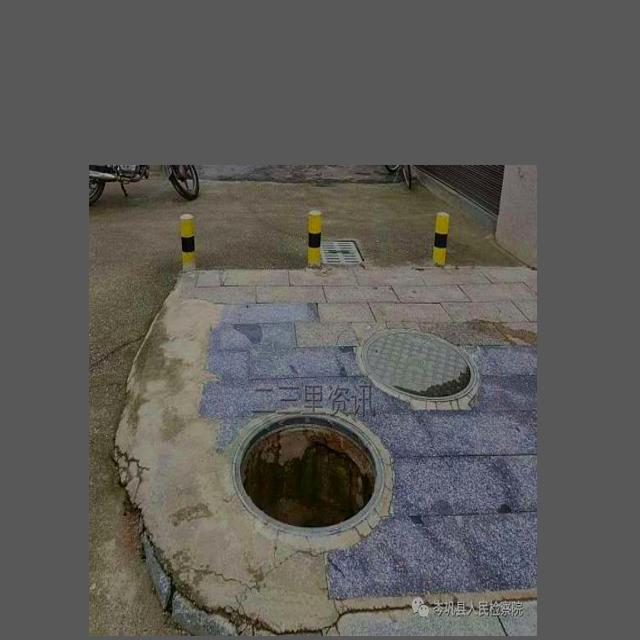lose: (226, 401, 394, 544)
